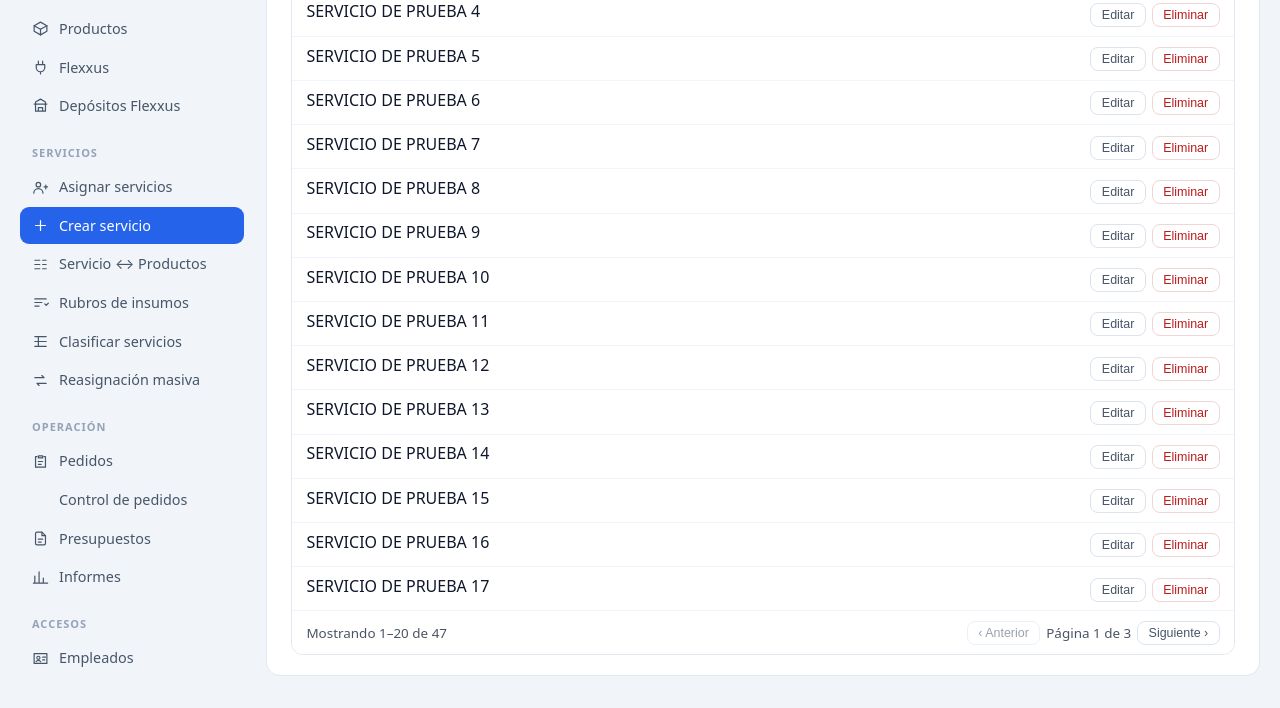
Scenario: Crear servicio — buscar y paginar › pasa a la página siguiente
The width and height of the screenshot is (1280, 708).
(page scrolled)
Click the button with aria-label "Página siguiente": (1178, 633) [1137, 621, 1220, 645]
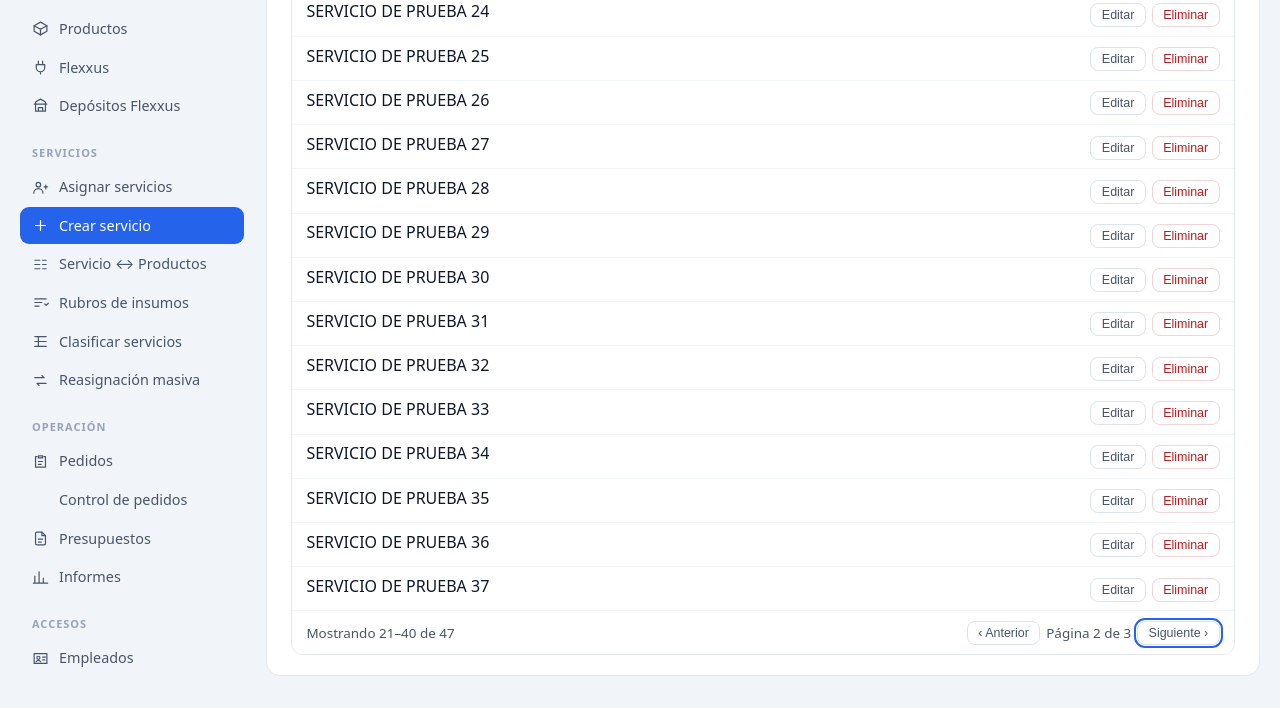
Now the text "Mostrando 21–40 de 47" is shown, box [306, 623, 455, 643]
Click the button with aria-label "Página siguiente": (1178, 633) [1137, 621, 1220, 645]
(page scrolled)
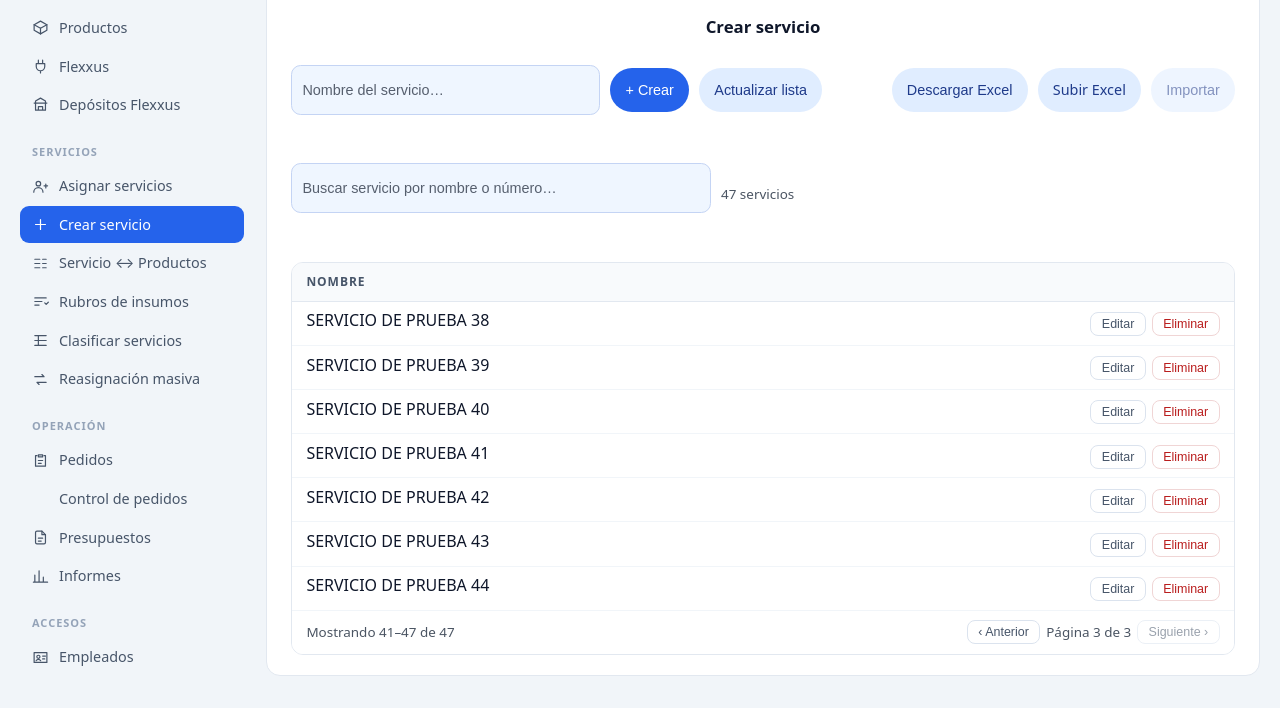
Now the text "Mostrando 41–47 de 47" is shown, box [306, 622, 455, 643]
Now the button with aria-label "Página siguiente" is disabled, box [1137, 620, 1220, 644]
